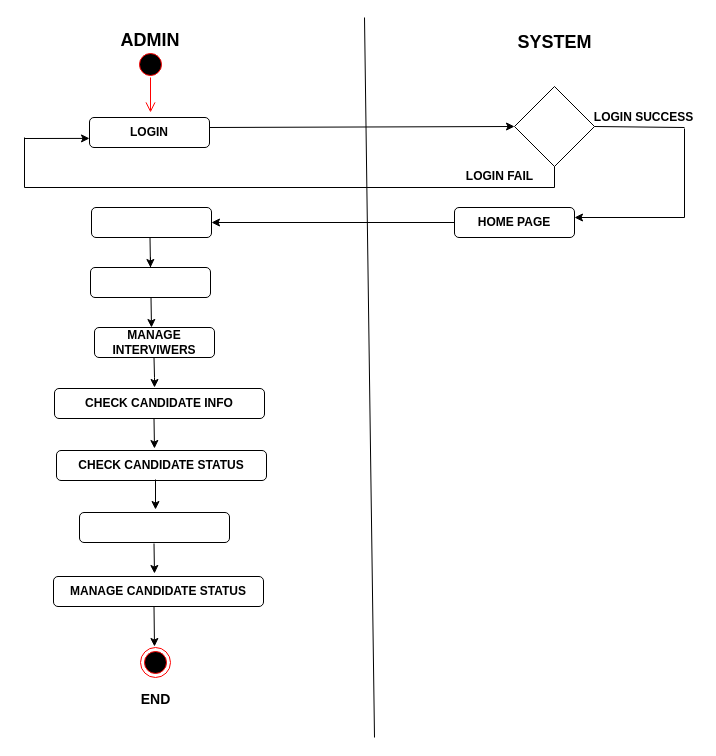
Some shapes in this 716 by 756 pixel diagram are drawn without their labels. The box of each missing label's shape, as (x1, y1, x2, y2) in pixels:
MANAGE JOB-OPENING: (90, 206, 212, 238)
MANAGE ROLES & PERMISSION: (90, 266, 210, 298)
VIEW FEEDBACK & NOTES: (78, 512, 230, 542)
